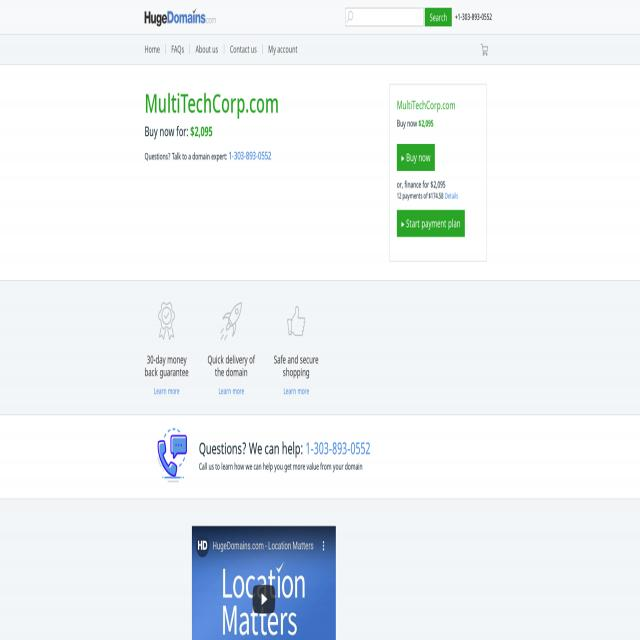button: (192, 526, 336, 640), (397, 210, 465, 237), (157, 428, 187, 482), (144, 7, 216, 27), (397, 144, 435, 171), (262, 40, 304, 60), (220, 302, 242, 340), (224, 40, 262, 60), (158, 302, 176, 340), (287, 302, 305, 340), (190, 40, 224, 60), (253, 584, 275, 614), (424, 7, 452, 27), (166, 40, 190, 60), (144, 40, 166, 60), (198, 534, 210, 557), (319, 534, 329, 556), (480, 44, 488, 56)
field: (345, 7, 423, 27)
